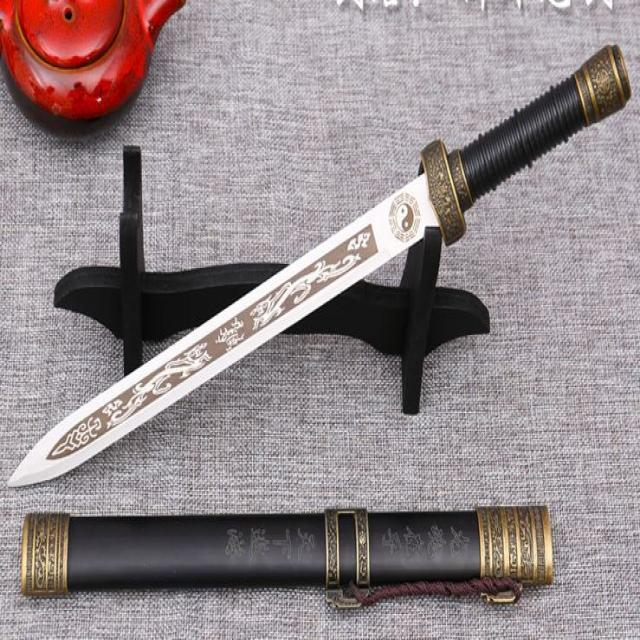long sword: (7, 48, 630, 488), (20, 503, 557, 597)
